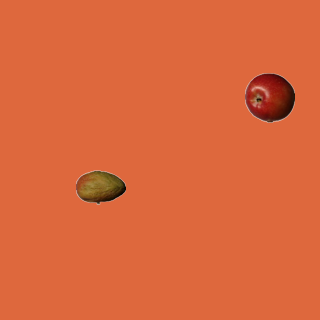Apple Braeburn: (244, 72, 294, 122)
Papaya: (75, 162, 125, 212)
